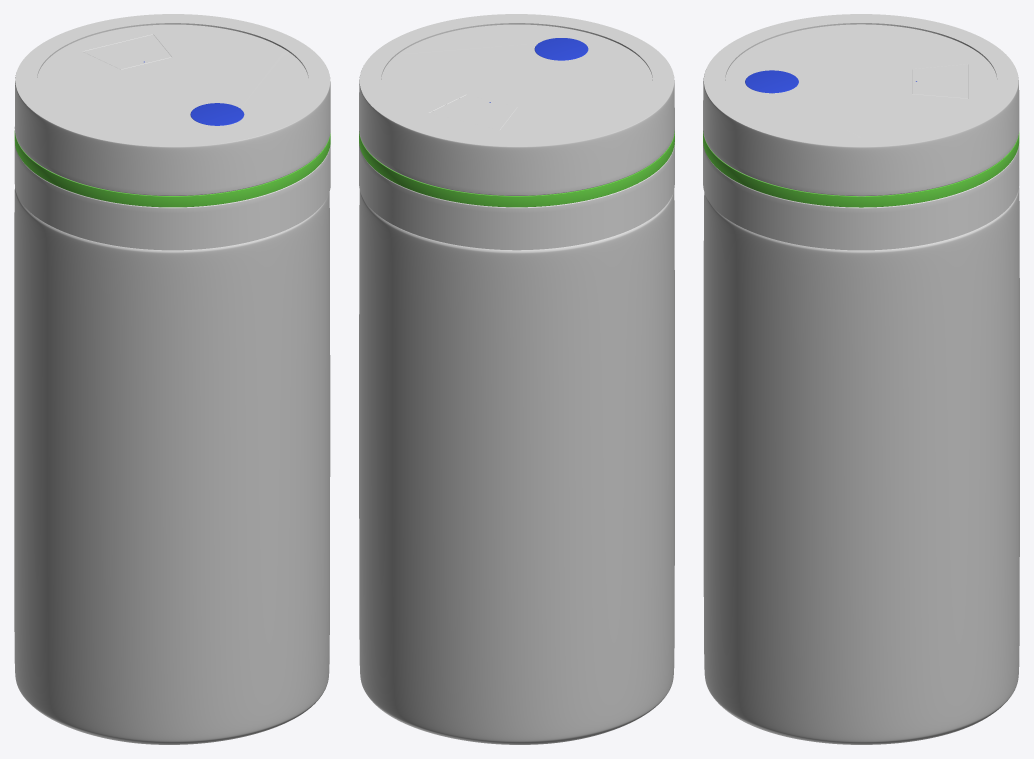
Rendered from jar_ar.glb.
The picture shows the model from 3 angles, left to right: view 1: azimuth 30°, elevation 25°; view 2: azimuth 150°, elevation 25°; view 3: azimuth 270°, elevation 25°; orthographic projection.
Parts seen in each view (by area): view 1: Jar, Thread.001, Thread.002; view 2: Jar, Thread.001, Thread.002; view 3: Jar, Thread.001, Thread.002.
Part boxes in pixels (bbox=[...]): Jar: bbox=[14, 188, 330, 744]; Thread.001: bbox=[14, 14, 330, 250]; Thread.002: bbox=[14, 130, 330, 207]; Jar: bbox=[359, 190, 674, 744]; Thread.001: bbox=[359, 14, 674, 250]; Thread.002: bbox=[359, 130, 674, 207]; Jar: bbox=[703, 187, 1019, 744]; Thread.001: bbox=[703, 14, 1019, 250]; Thread.002: bbox=[703, 131, 1019, 207].
Size of the model in its own units: 0.1145 by 0.2403 by 0.1146.
